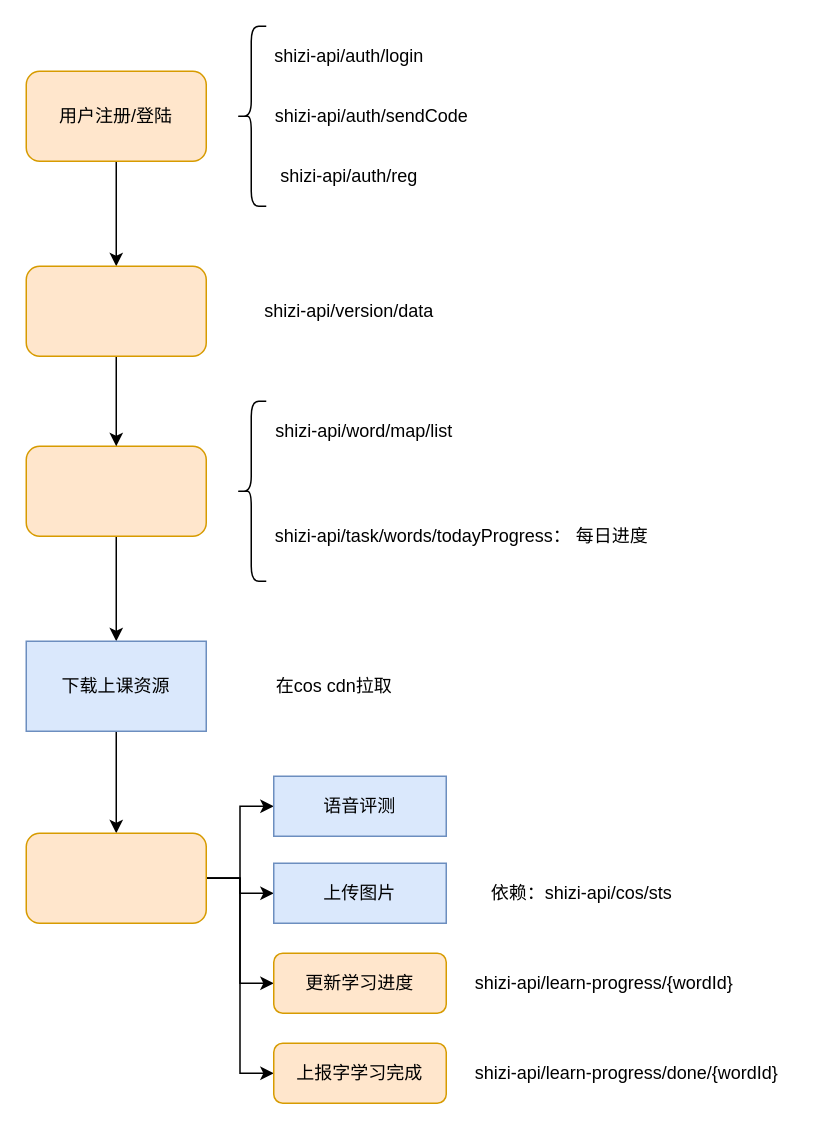
Some shapes in this 818 by 1130 pixel diagram are drawn without their labels. The box of each missing label's shape, as (x1, y1, x2, y2) in pixels:
学习: (25, 832, 206, 923)
检查热更: (25, 265, 206, 356)
进入大地图汉字列表: (25, 445, 206, 536)
